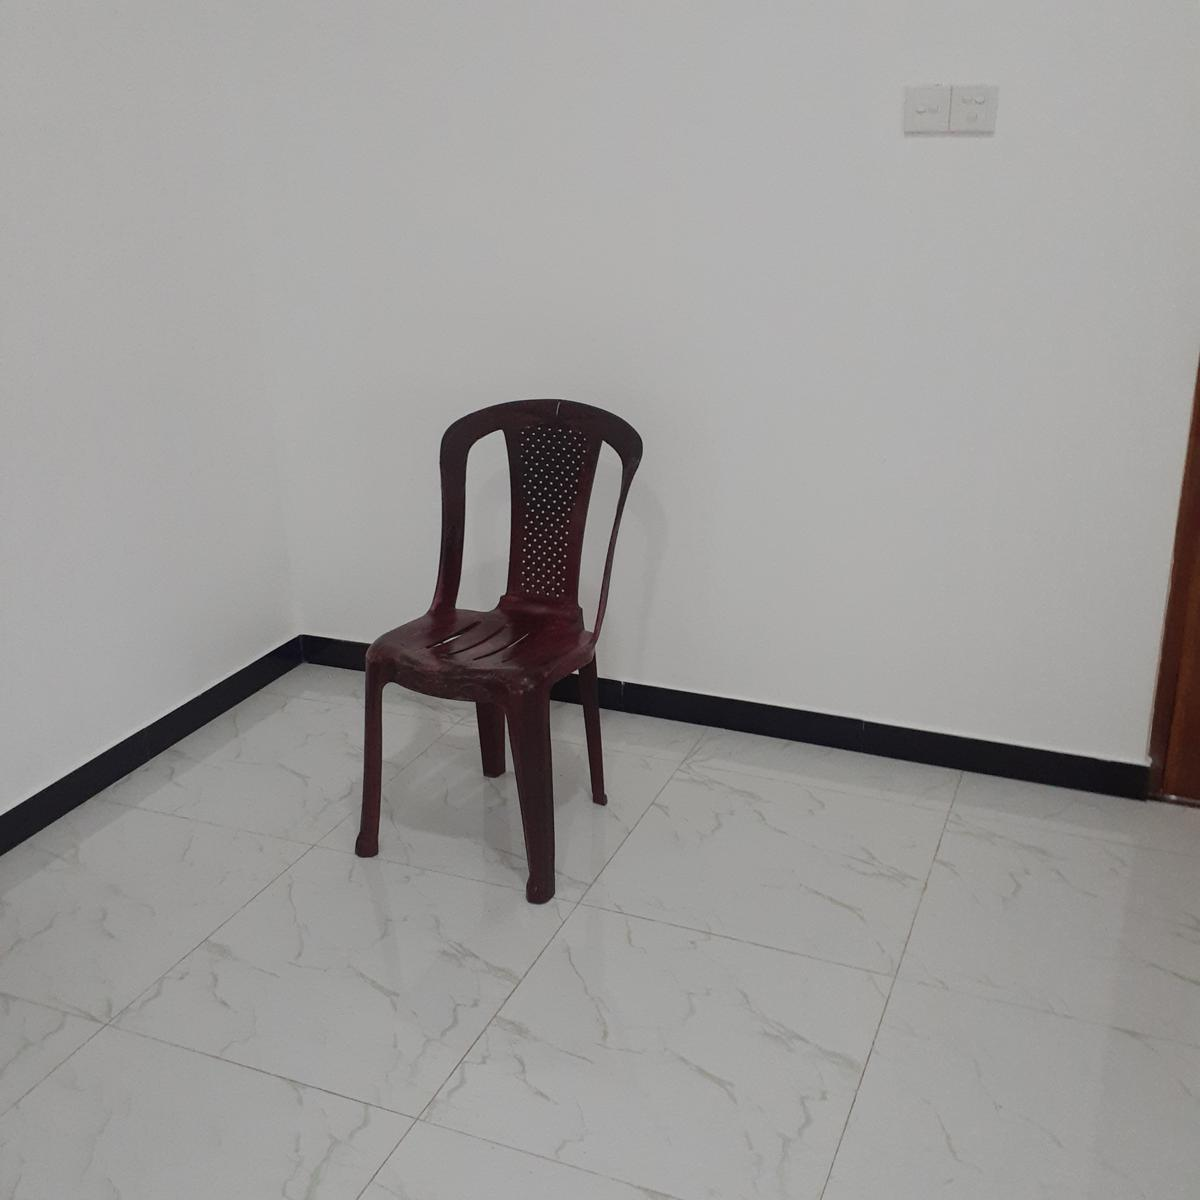Chair: (351, 398, 644, 904)
